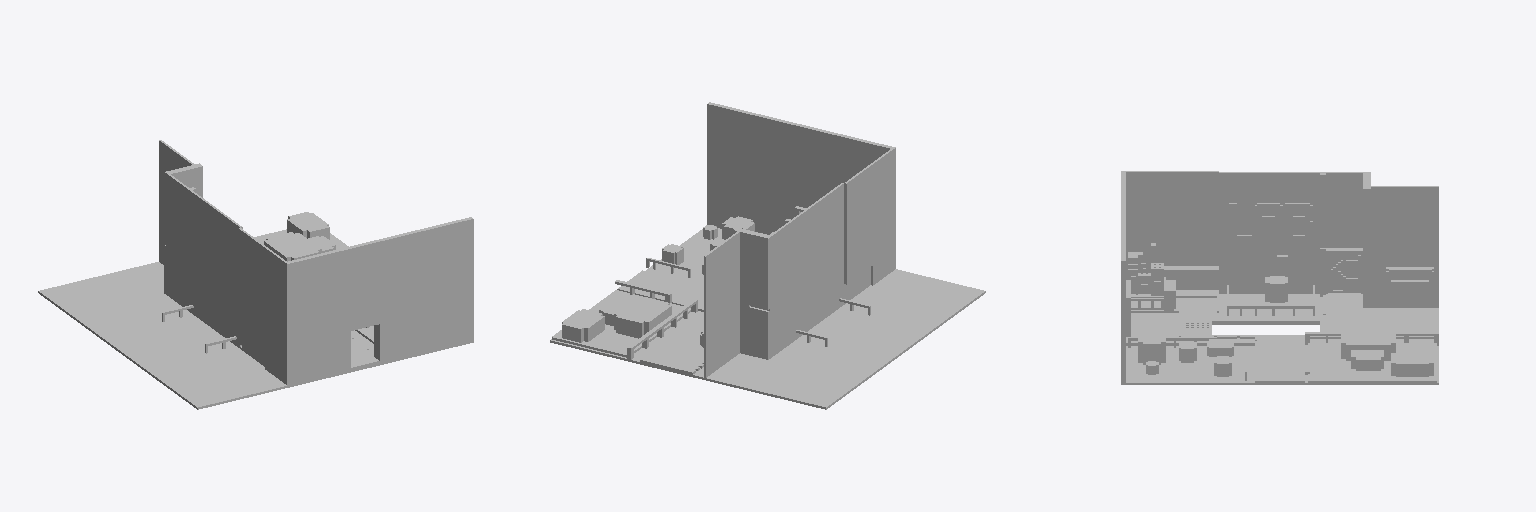
Rendered from Sci-Fi Level 8.obj.
The picture shows the model from 3 angles: view 1: azimuth 30°, elevation 25°; view 2: azimuth 150°, elevation 25°; view 3: azimuth 270°, elevation 25°; orthographic projection.
Visible parts, largest first — view 1: object 1; view 2: object 1; view 3: object 1.
Part boxes in pixels (bbox=[...]): object 1: bbox=[38, 140, 473, 409]; object 1: bbox=[550, 102, 985, 409]; object 1: bbox=[1121, 171, 1438, 384].
Bounding box in the file's own units: 12.6 × 5.4 × 12.6.